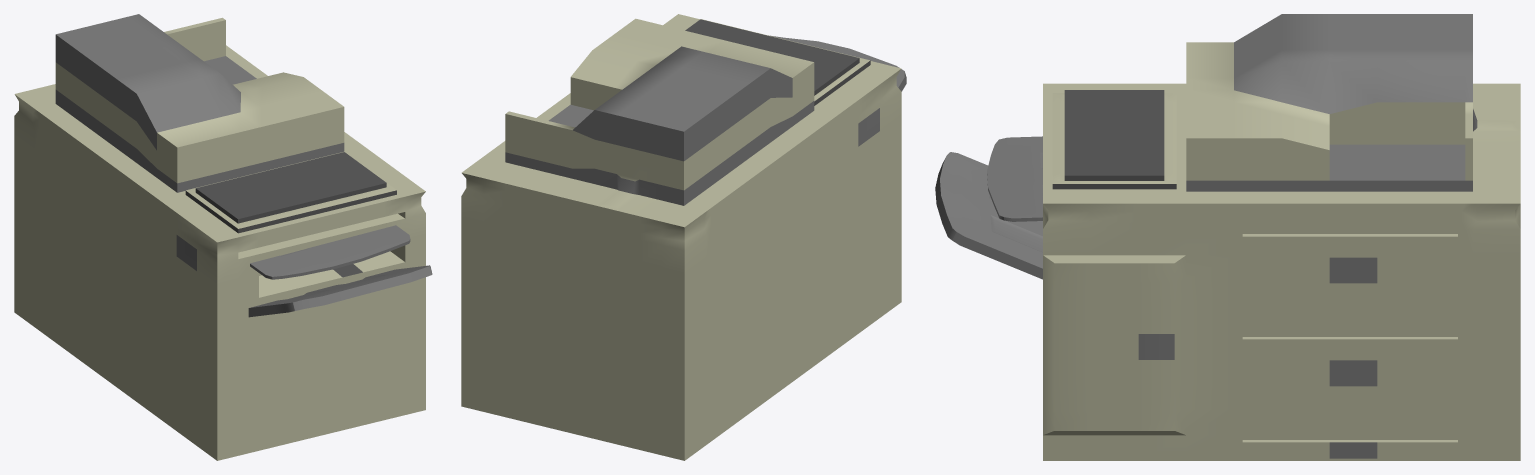
The model's file is Printer.fbx.
3 views of the same model, side by side, from view 1: azimuth 30°, elevation 25°; view 2: azimuth 150°, elevation 25°; view 3: azimuth 270°, elevation 25° (orthographic). The views are drawn at different scales.
Visible parts, largest first — view 1: pCube3; view 2: pCube3; view 3: pCube3.
Boxes of the visible parts, x1=… form: pCube3: x1=14, y1=14, x2=432, y2=460; pCube3: x1=461, y1=14, x2=906, y2=460; pCube3: x1=935, y1=14, x2=1520, y2=460.
Bounding box in the file's own units: 1.02 × 1.32 × 2.06.
